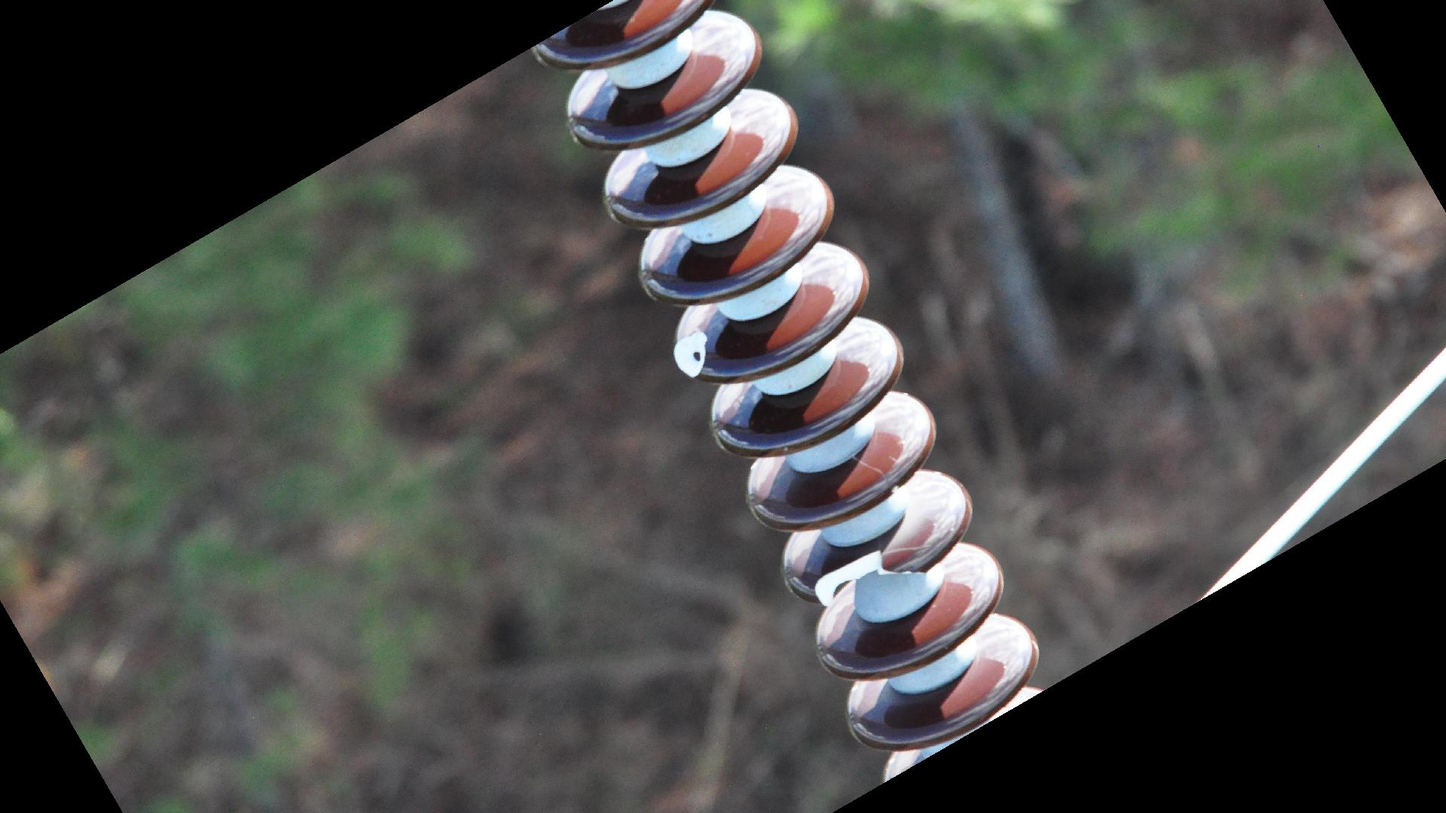insulator: (524, 1, 1049, 792)
insulator_breakage: (809, 540, 927, 613), (666, 327, 716, 381)
